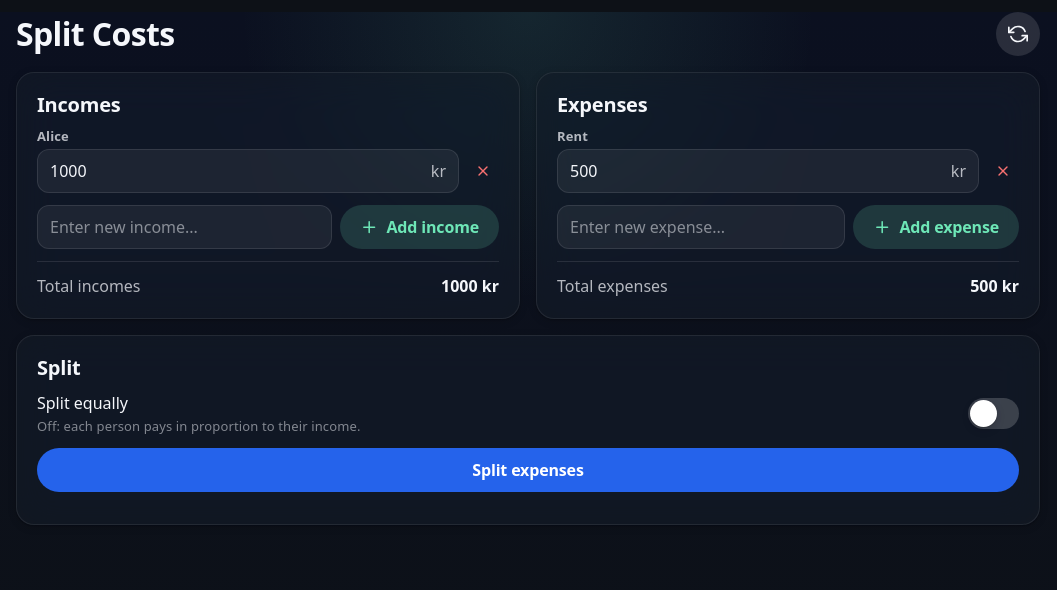
Scenario: CostCalculator › splitting › treats a cleared field as 0 and keeps it blank rather than writing 0
Clear the number field named "Amount for Rent" at (756, 171), box [570,151,943,191]
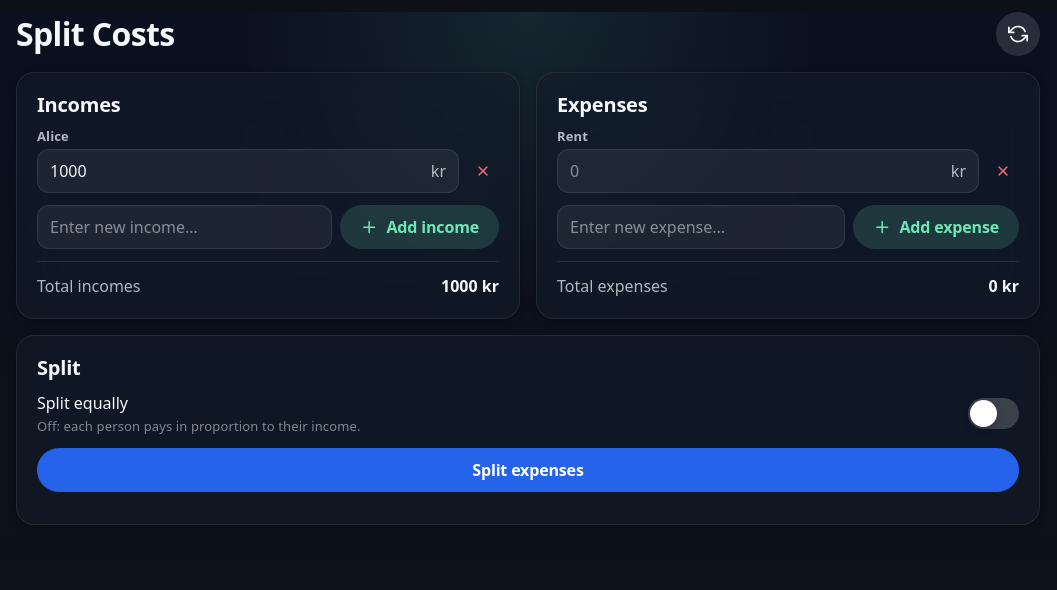
expect the text named "Total expenses" reads "0 kr": met, box [988,275,1019,297]
Click the button "Split expenses".
click(528, 470)  # box [37,448,1019,492]
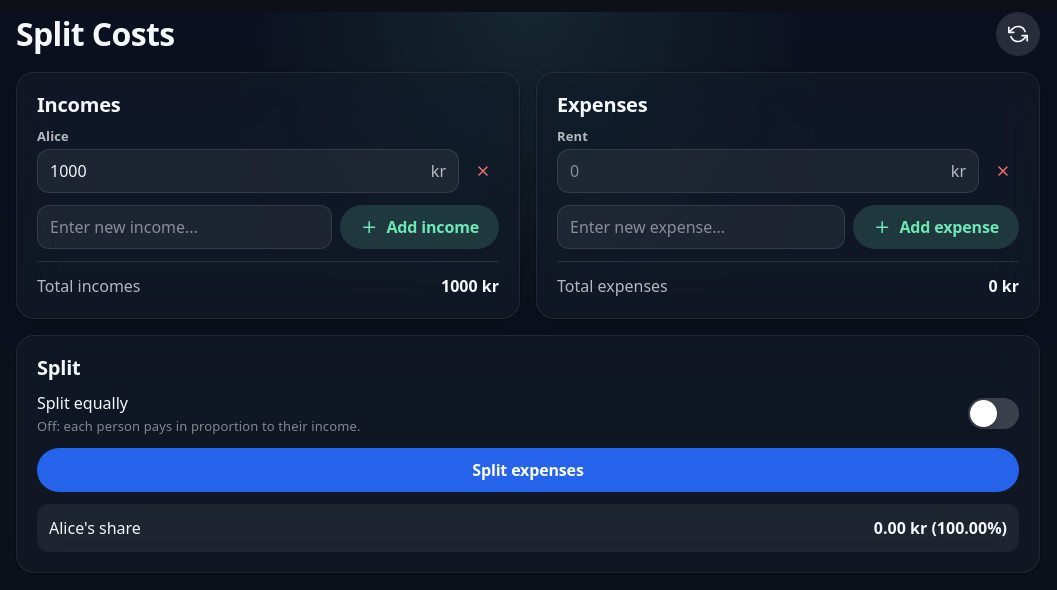
expect the list item "Alice's share 0.00 kr (100.00%)" is shown: met, box [37,504,1019,552]
